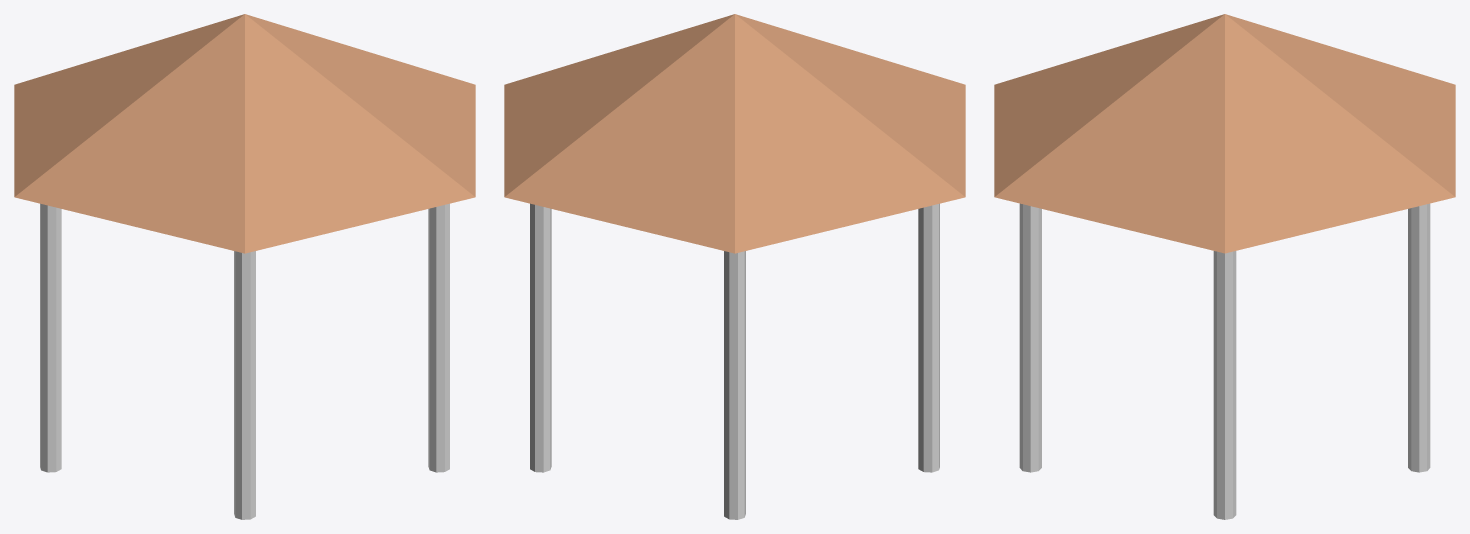
The model's file is gazebo.glb.
The picture shows the model from 3 angles, left to right: view 1: azimuth 30°, elevation 25°; view 2: azimuth 150°, elevation 25°; view 3: azimuth 270°, elevation 25°; orthographic projection.
Size of the model in its own units: 3.8 by 3.2 by 3.29.
